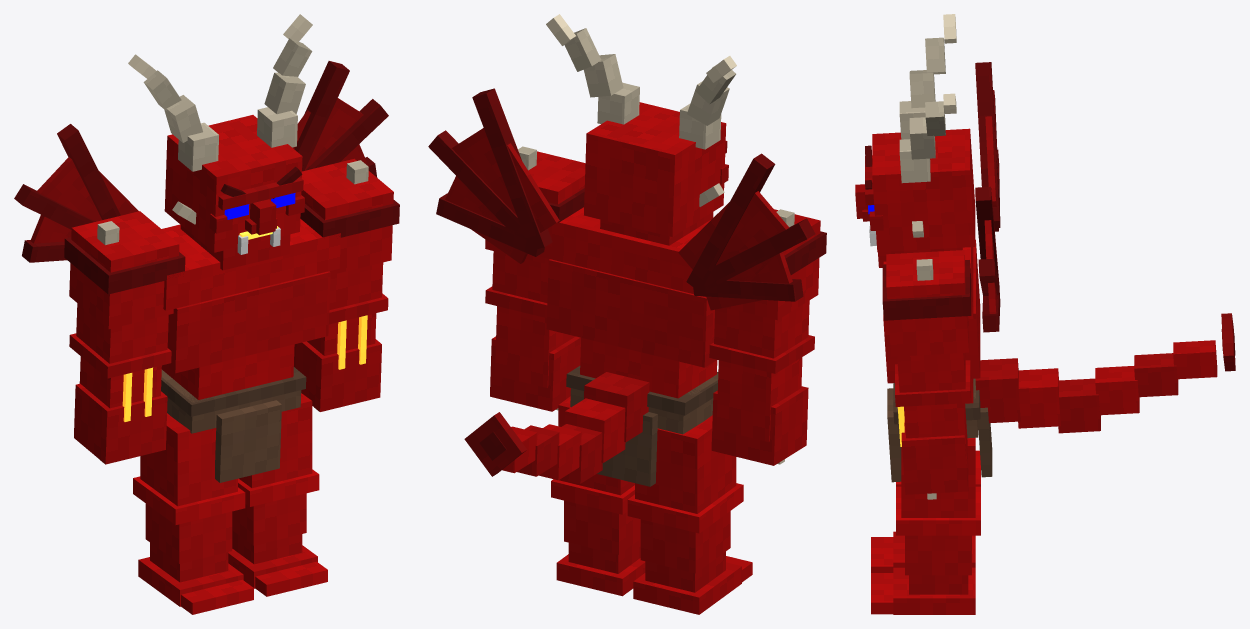
The model's file is demon_s0.glb.
3 renders of one model, left to right at view 1: azimuth 30°, elevation 25°; view 2: azimuth 150°, elevation 25°; view 3: azimuth 270°, elevation 25°, orthographic. The views are drawn at different scales.
Parts seen in each view (by area): view 1: Torso, ArmR, Head, ArmL, LegR, LegL; view 2: Torso, Head, ArmR, LegR, ArmL, LegL; view 3: Torso, ArmL, Head, LegL, LegR.
Boxes of the visible parts, left/top/right/bottom form: Torso: left=14, top=61, right=388, bottom=482; ArmR: left=64, top=211, right=185, bottom=464; Head: left=128, top=14, right=312, bottom=270; ArmL: left=294, top=158, right=399, bottom=411; LegR: left=133, top=413, right=253, bottom=614; LegL: left=228, top=393, right=327, bottom=596; Torso: left=428, top=88, right=815, bottom=486; Head: left=546, top=14, right=736, bottom=245; ArmR: left=709, top=209, right=826, bottom=465; LegR: left=627, top=415, right=752, bottom=614; ArmL: left=485, top=146, right=585, bottom=411; LegL: left=551, top=396, right=645, bottom=596; Torso: left=883, top=62, right=1235, bottom=482; ArmL: left=882, top=250, right=971, bottom=499; Head: left=855, top=14, right=975, bottom=267; LegL: left=871, top=438, right=980, bottom=614; LegR: left=871, top=450, right=980, bottom=572.
Size of the model in its own units: 1.58 by 2.2 by 1.44.
Materials: 29 (29 with a texture image).
